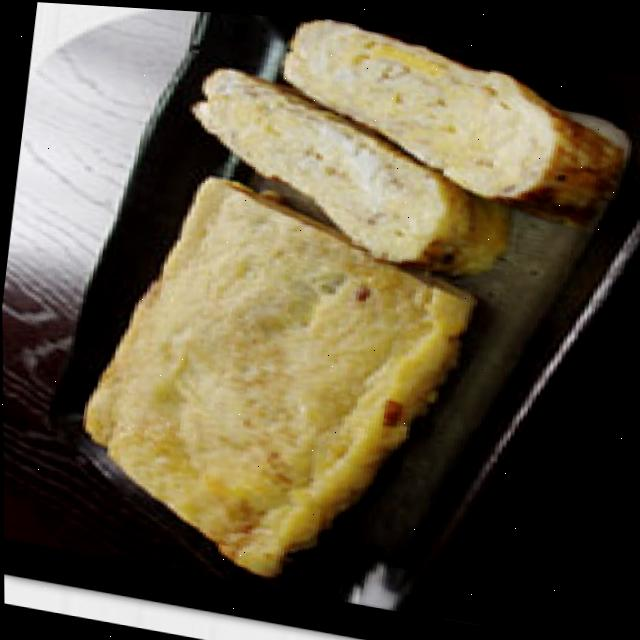鸡蛋料理: (29, 1, 640, 633)
